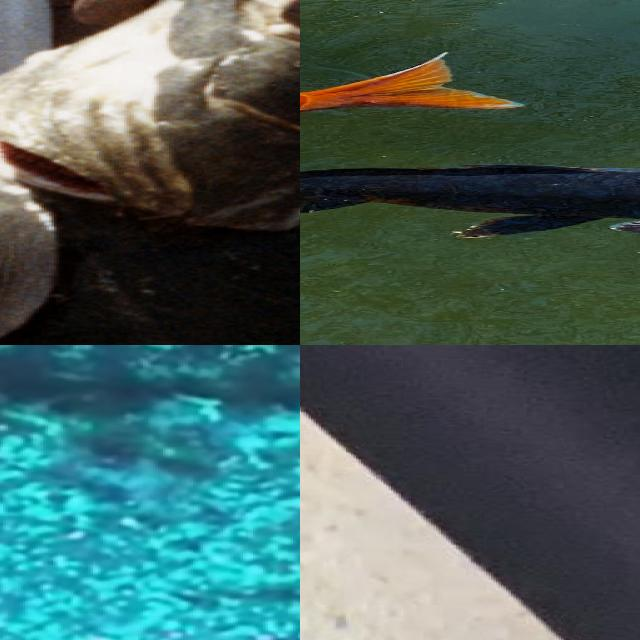fish: (0, 0, 300, 345), (461, 0, 640, 174)
